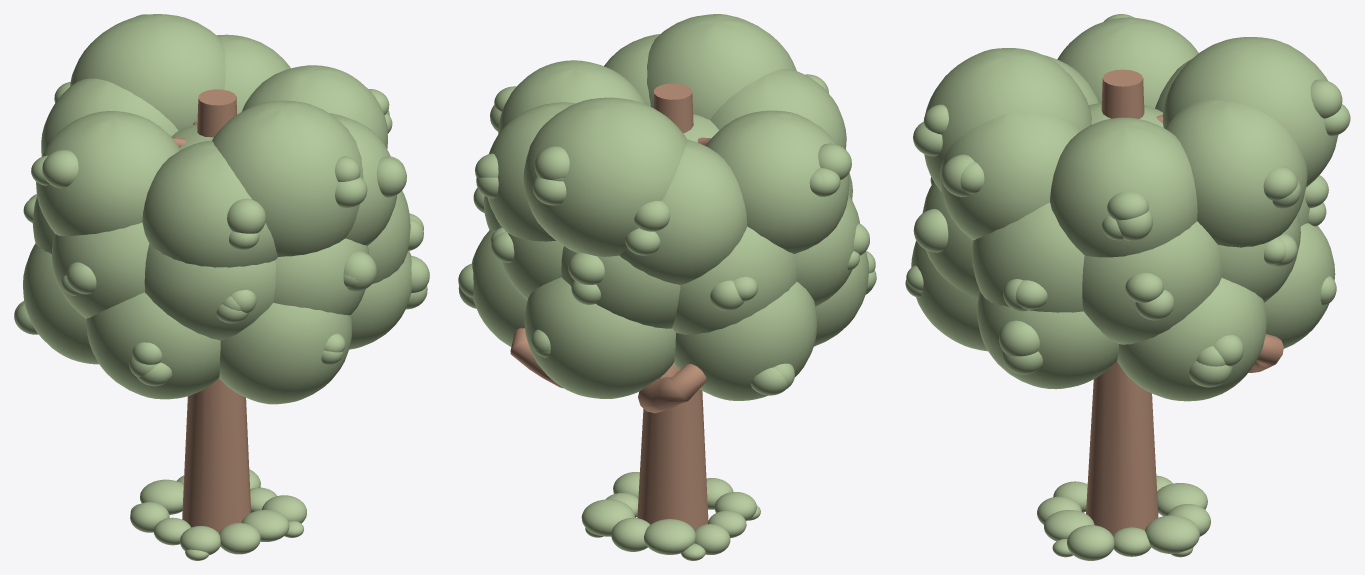
The model's file is 12-big-puffy-tree.glb.
3 views of the same model, side by side, from view 1: azimuth 30°, elevation 25°; view 2: azimuth 150°, elevation 25°; view 3: azimuth 270°, elevation 25° (orthographic). The views are drawn at different scales.
Parts seen in each view (by area): view 1: CanopyTopB, CanopyUp3, CanopyTopF, CanopyUp4, CanopyLow4, Trunk, CanopyLow3, CanopyMid5, CanopyMid4, CanopyUp0, CanopyMid6, CanopyLow2 (+24 smaller); view 2: CanopyTopF, CanopyUp3, CanopyLow1, CanopyUp2, CanopyTopB, CanopyLow2, Trunk, CanopyMid3, CanopyUp1, CanopyUp4, CanopyUp0, CanopyMid2 (+27 smaller); view 3: CanopyUp0, CanopyUp1, CanopyTopF, CanopyUp5, Trunk, CanopyTopB, CanopyMid0, CanopyLow0, CanopyMid7, CanopyLow5, CanopyUp3, CanopyLow1 (+32 smaller).
Part boxes in pixels (left/top/right/bottom): CanopyTopB: left=212, top=100, right=363, bottom=256; CanopyUp3: left=36, top=111, right=180, bottom=236; CanopyTopF: left=70, top=14, right=225, bottom=130; CanopyUp4: left=142, top=140, right=277, bottom=267; CanopyLow4: left=219, top=303, right=352, bottom=404; Trunk: left=182, top=378, right=251, bottom=532; CanopyLow3: left=86, top=292, right=220, bottom=399; CanopyMid5: left=144, top=244, right=275, bottom=340; CanopyMid4: left=52, top=222, right=149, bottom=318; CanopyUp0: left=242, top=65, right=387, bottom=148; CanopyMid6: left=273, top=238, right=368, bottom=315; CanopyLow2: left=23, top=243, right=98, bottom=364; CanopyTopF: left=523, top=97, right=687, bottom=256; CanopyUp3: left=706, top=110, right=849, bottom=253; CanopyLow1: left=524, top=277, right=675, bottom=398; CanopyUp2: left=619, top=139, right=747, bottom=284; CanopyTopB: left=647, top=14, right=796, bottom=119; CanopyLow2: left=673, top=281, right=817, bottom=400; Trunk: left=637, top=389, right=708, bottom=529; CanopyMid3: left=672, top=226, right=796, bottom=334; CanopyUp1: left=487, top=102, right=575, bottom=241; CanopyUp4: left=710, top=69, right=846, bottom=149; CanopyUp0: left=498, top=60, right=644, bottom=133; CanopyMid2: left=561, top=246, right=680, bottom=328; CanopyUp0: left=1050, top=117, right=1197, bottom=257; CanopyUp1: left=1165, top=100, right=1307, bottom=247; CanopyTopF: left=1162, top=37, right=1338, bottom=187; CanopyUp5: left=940, top=112, right=1081, bottom=240; Trunk: left=1086, top=361, right=1158, bottom=535; CanopyTopB: left=924, top=48, right=1091, bottom=191; CanopyMid0: left=1082, top=221, right=1221, bottom=344; CanopyLow0: left=1117, top=278, right=1266, bottom=401; CanopyMid7: left=972, top=202, right=1084, bottom=312; CanopyLow5: left=977, top=291, right=1118, bottom=389; CanopyUp3: left=1057, top=17, right=1198, bottom=108; CanopyLow1: left=1264, top=223, right=1335, bottom=348.
Bounding box in the file's own units: 2.76 × 3.45 × 2.86.
